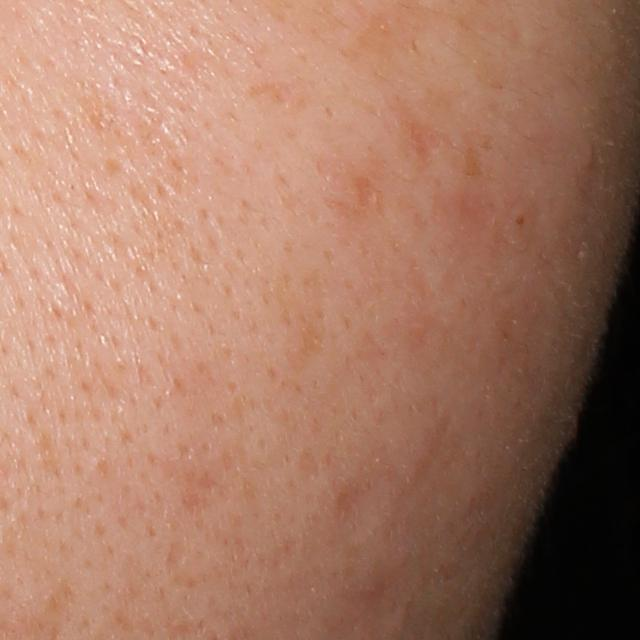atrophic_scar: (352, 174, 383, 213)
comedo: (512, 210, 531, 230)
